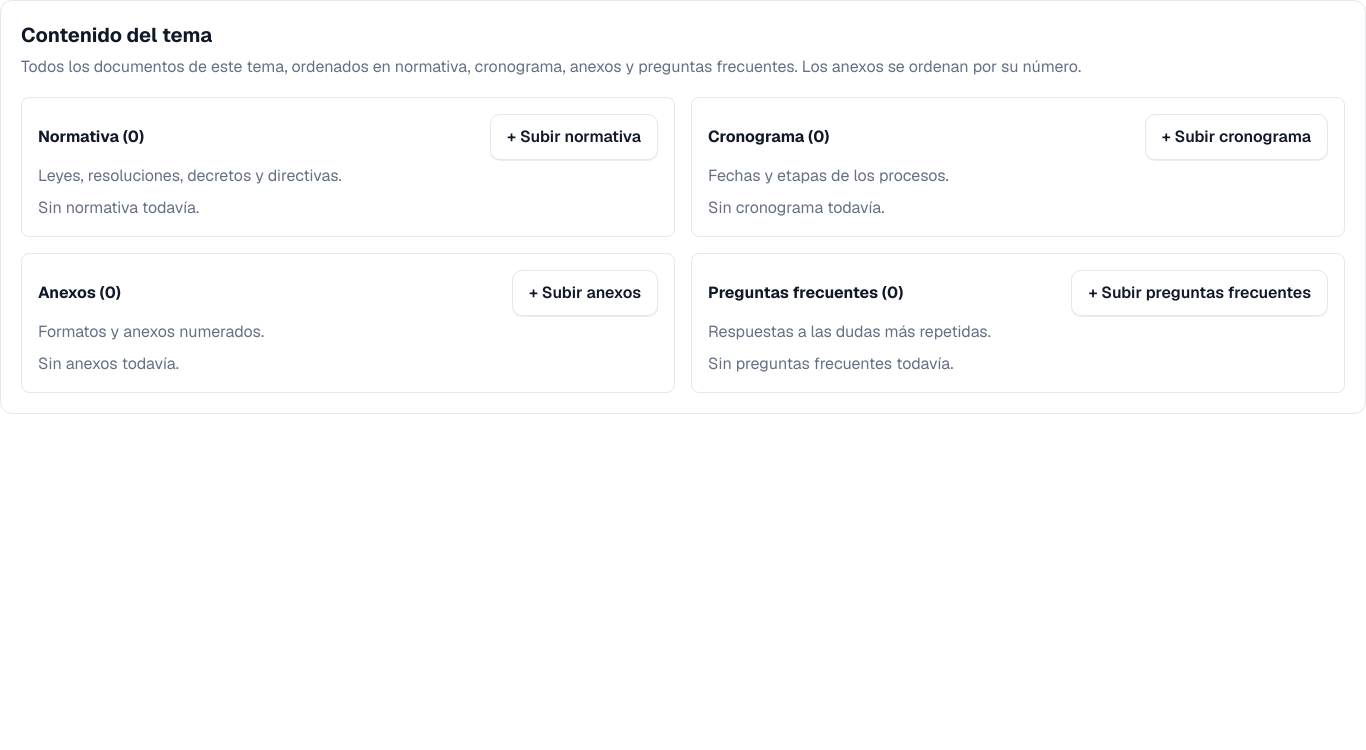
Test: ModuleContentSections › «Cambiar» abre los datos del tema ya completos y enfoca el año
This screenshot has width=1366, height=750.
Step 1. Click the button "+ Subir anexos" → [585, 293], box x1=512 y1=270 x2=658 y2=316
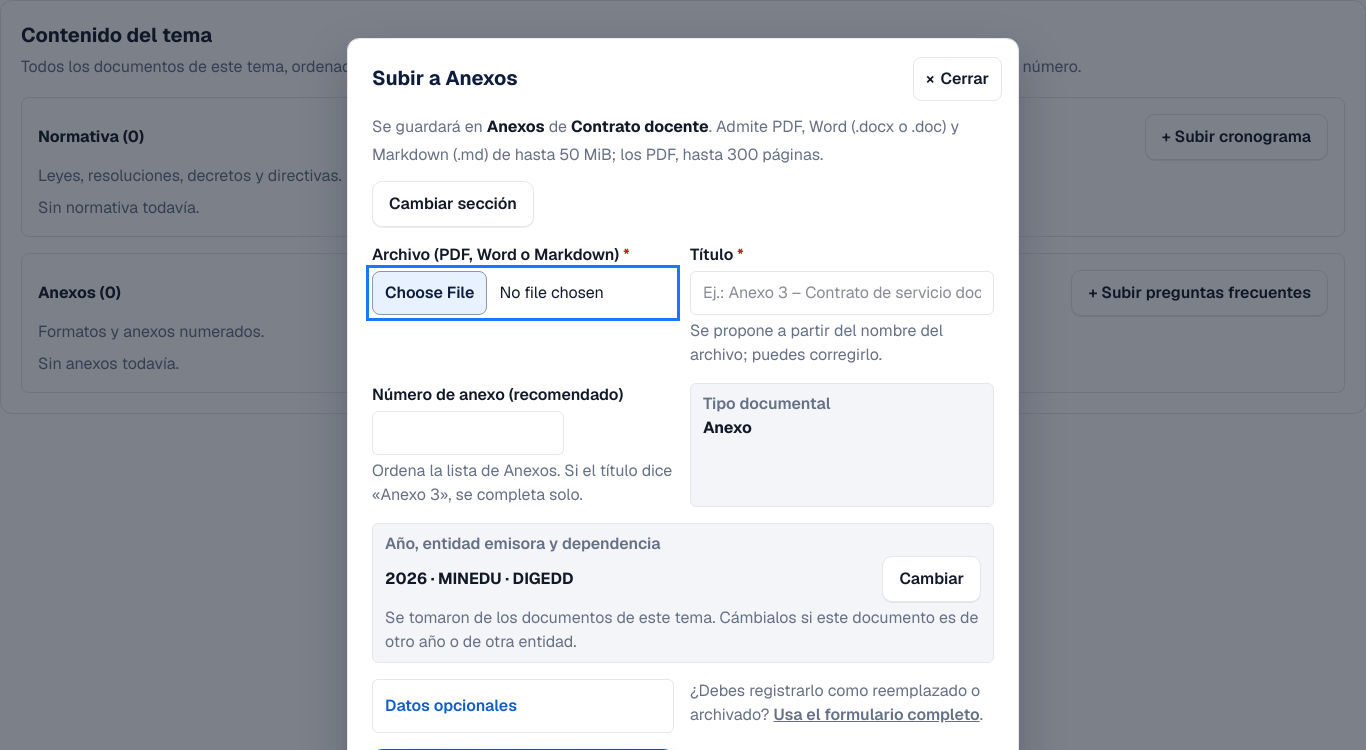
Step 2. Click the button "Cambiar" → [932, 579], box x1=882 y1=556 x2=981 y2=602
(page scrolled)
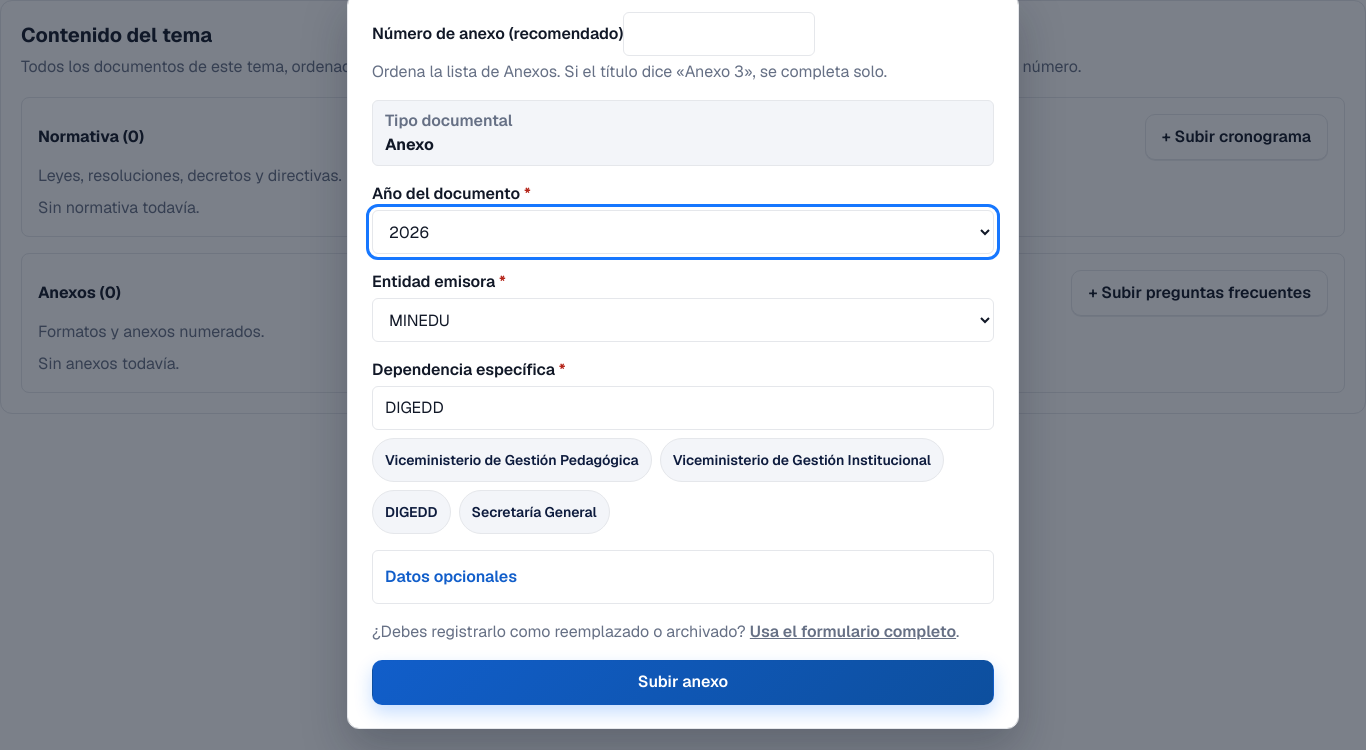
Expected: the dropdown labelled "Entidad emisora" shows "MINEDU", x1=372 y1=298 x2=994 y2=342
Expected: the field labelled "Dependencia específica" holds "DIGEDD", x1=372 y1=386 x2=994 y2=430
